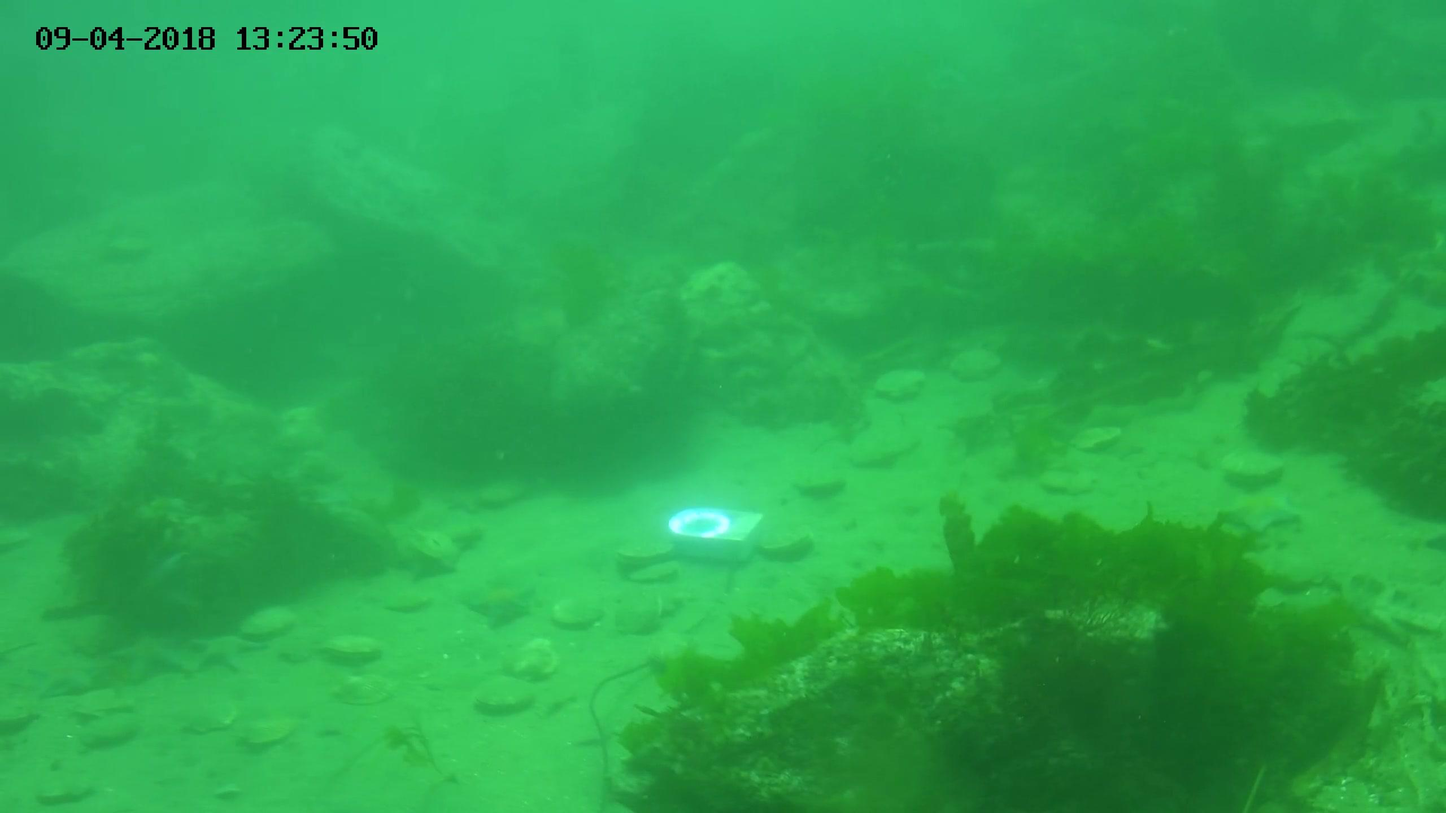holothurian: (128, 546, 208, 620), (116, 625, 197, 687), (32, 649, 111, 703), (1222, 486, 1305, 537), (190, 627, 264, 684), (466, 581, 538, 634), (398, 548, 452, 580)
scallop: (473, 675, 541, 713), (502, 638, 563, 680), (328, 673, 401, 708), (1219, 447, 1288, 483), (79, 716, 143, 750), (239, 605, 299, 640), (949, 345, 1004, 383), (323, 633, 387, 665), (759, 524, 812, 561), (551, 595, 607, 630), (33, 776, 96, 806), (1041, 466, 1101, 497), (241, 714, 300, 745), (73, 688, 138, 716), (874, 368, 926, 402), (181, 702, 240, 730), (617, 540, 678, 567), (1073, 421, 1122, 454), (104, 231, 153, 263), (475, 480, 526, 509), (1, 696, 40, 732), (383, 587, 432, 614), (628, 561, 683, 585)
